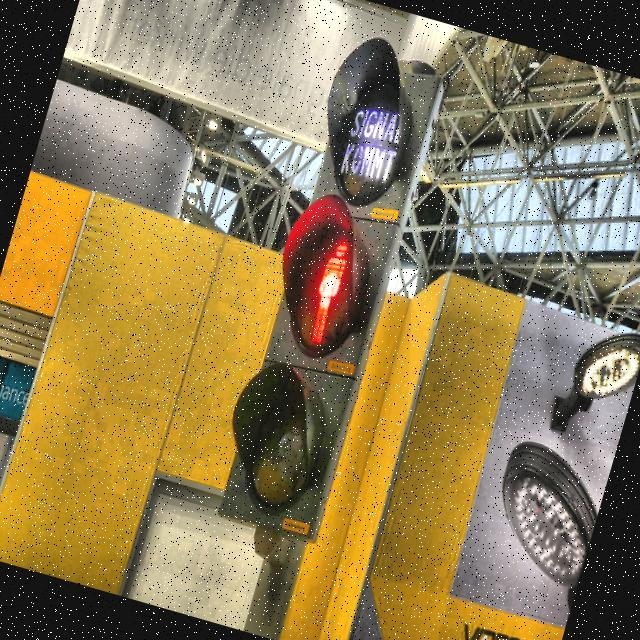red_light: (298, 232, 358, 350)
